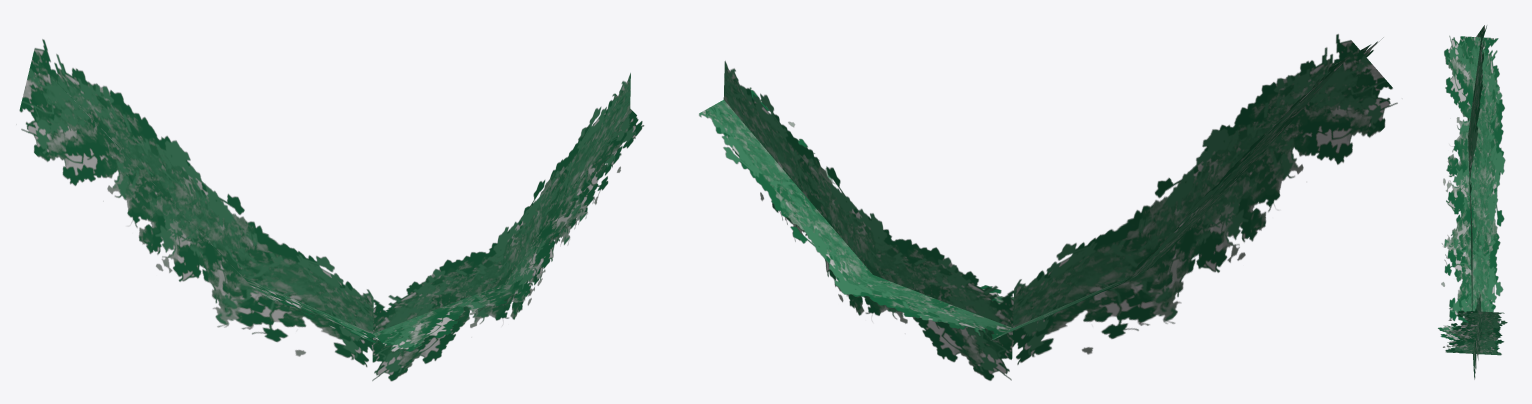
File: Wreath04.glb
The picture shows the model from 3 angles, left to right: view 1: azimuth 30°, elevation 25°; view 2: azimuth 150°, elevation 25°; view 3: azimuth 270°, elevation 25°; orthographic projection. The views are drawn at different scales.
Parts seen in each view (by area): view 1: Wreath04; view 2: Wreath04; view 3: Wreath04.
Boxes of the visible parts, bbox=[...] form: Wreath04: bbox=[19, 39, 644, 381]; Wreath04: bbox=[699, 34, 1397, 380]; Wreath04: bbox=[1438, 25, 1507, 379].
Size of the model in its own units: 2.46 by 1.63 by 0.4703.
Materials: 1 (1 with a texture image).
